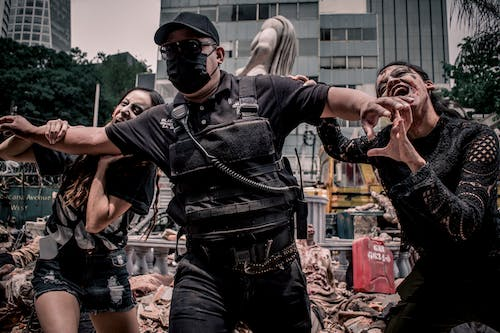blood: (373, 66, 420, 114)
